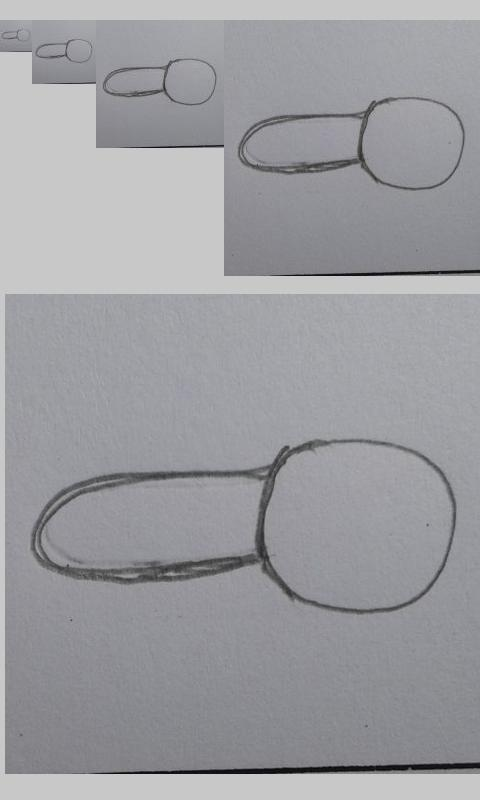switch: (31, 438, 459, 615), (238, 96, 467, 191), (103, 57, 218, 107), (35, 38, 93, 64), (1, 27, 31, 42)
